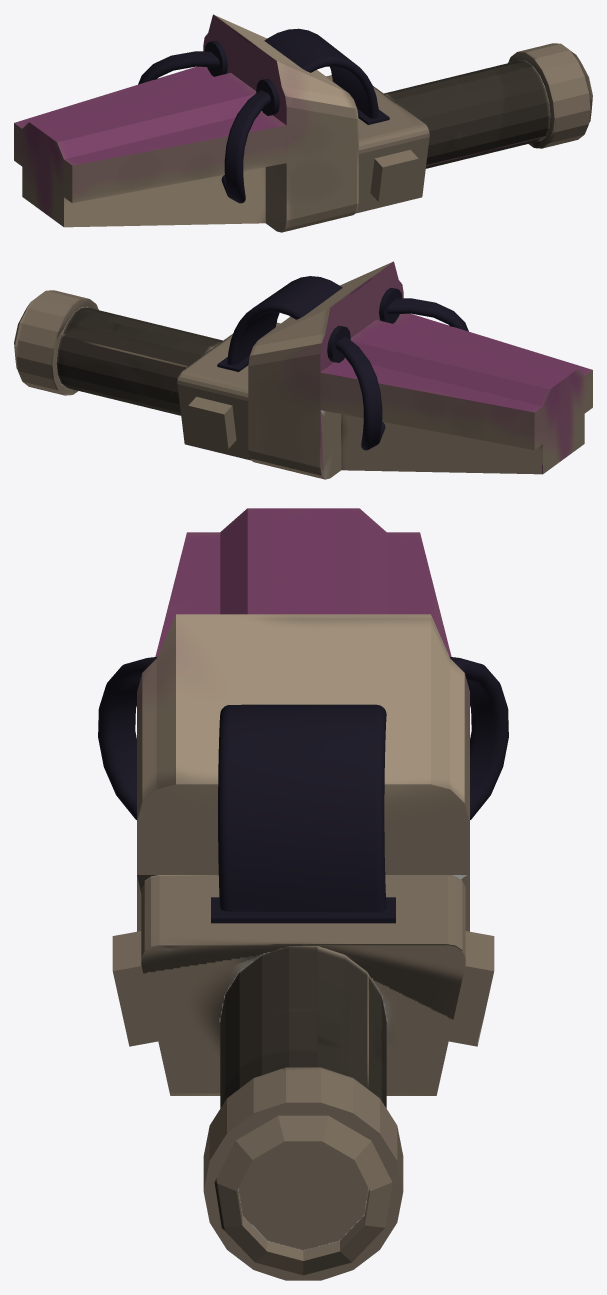
File: LeafBlower.fbx
The picture shows the model from 3 angles, top to bottom: view 1: azimuth 30°, elevation 25°; view 2: azimuth 150°, elevation 25°; view 3: azimuth 270°, elevation 25°; orthographic projection. The views are drawn at different scales.
Parts seen in each view (by area): view 1: Cube, BezierCurve.001, BezierCurve, Cylinder; view 2: Cube, BezierCurve.001, BezierCurve, Cylinder; view 3: Cube, BezierCurve.001, BezierCurve, Cube.002.
Boxes of the visible parts, box(x1,y1,x2,y2) form: Cube: box(14, 14, 592, 232); BezierCurve.001: box(264, 28, 378, 118); BezierCurve: box(138, 51, 270, 203); Cylinder: box(204, 40, 279, 115); Cube: box(14, 261, 592, 479); BezierCurve.001: box(227, 276, 342, 365); BezierCurve: box(336, 298, 468, 450); Cylinder: box(327, 287, 402, 362); Cube: box(112, 508, 494, 1280); BezierCurve.001: box(218, 704, 386, 912); BezierCurve: box(98, 657, 508, 819); Cube.002: box(211, 897, 395, 923).
Bounding box in the file's own units: 3.7 × 1.17 × 1.23.
